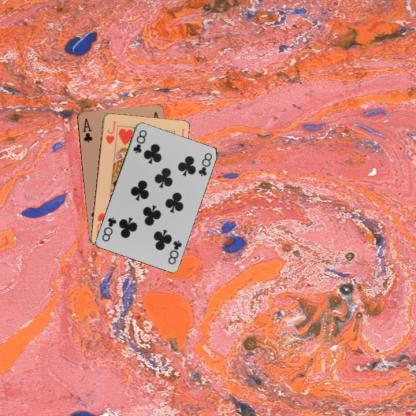8c: (130, 127, 148, 155), (165, 238, 183, 265)
Ac: (80, 115, 94, 144)
Jh: (103, 118, 117, 144)
